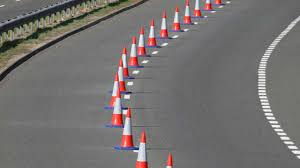cone: (118, 107, 135, 149), (135, 131, 151, 167), (111, 88, 124, 126), (115, 58, 128, 91), (110, 71, 121, 108), (130, 37, 141, 68), (172, 5, 184, 32), (119, 48, 130, 77), (159, 10, 170, 39), (137, 27, 148, 55), (147, 18, 157, 47), (184, 1, 191, 25)
